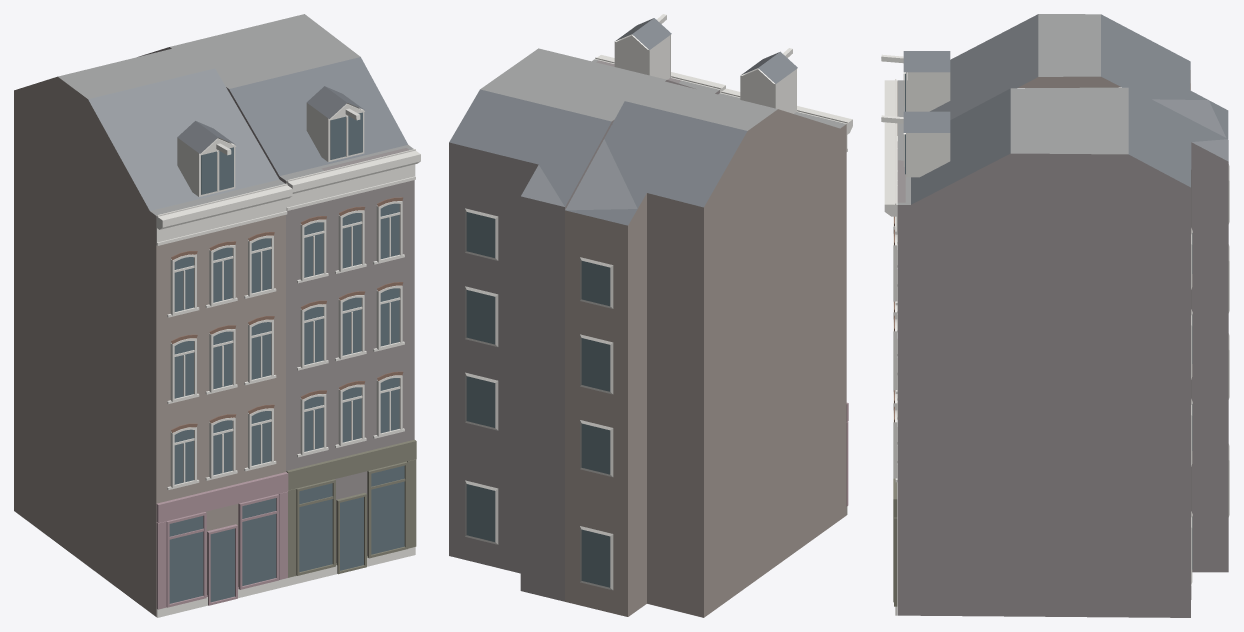
File: chunk-face-cuyp-80-88-r1.glb
3 renders of one model, left to right at view 1: azimuth 30°, elevation 25°; view 2: azimuth 150°, elevation 25°; view 3: azimuth 270°, elevation 25°, orthographic. The views are drawn at different scales.
Visible parts, largest first — view 1: face-cuyp-80-88-r1; view 2: face-cuyp-80-88-r1; view 3: face-cuyp-80-88-r1.
Boxes of the visible parts, x1,y1,x2,y2 form: face-cuyp-80-88-r1: (14, 14, 420, 617); face-cuyp-80-88-r1: (449, 14, 852, 617); face-cuyp-80-88-r1: (881, 14, 1229, 617).
Size of the model in its own units: 9.42 by 15.97 by 10.64.
